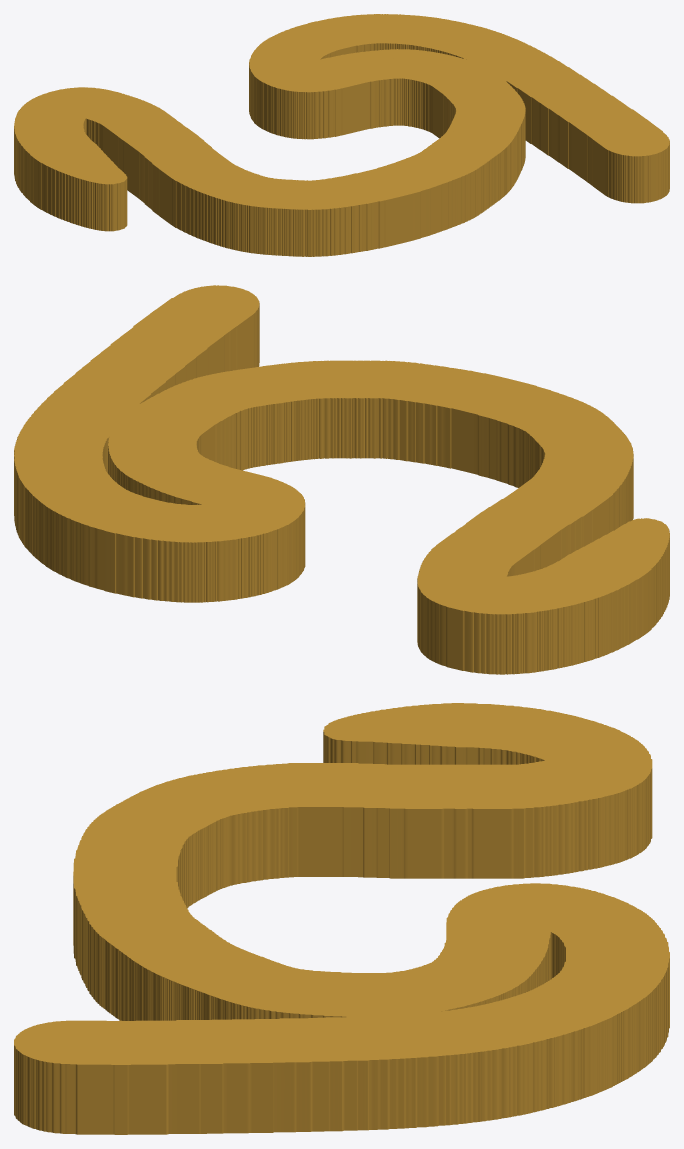
3 views of the same model, one above another, from view 1: azimuth 30°, elevation 25°; view 2: azimuth 150°, elevation 25°; view 3: azimuth 270°, elevation 25° (orthographic). The views are drawn at different scales.
Parts seen in each view (by area): view 1: Curve.008; view 2: Curve.008; view 3: Curve.008.
Boxes of the visible parts, left/top/right/bottom form: Curve.008: left=14, top=14, right=669, bottom=256; Curve.008: left=14, top=285, right=669, bottom=674; Curve.008: left=14, top=703, right=669, bottom=1134.
Bounding box in the file's own units: 106 × 9.55 × 81.26.
